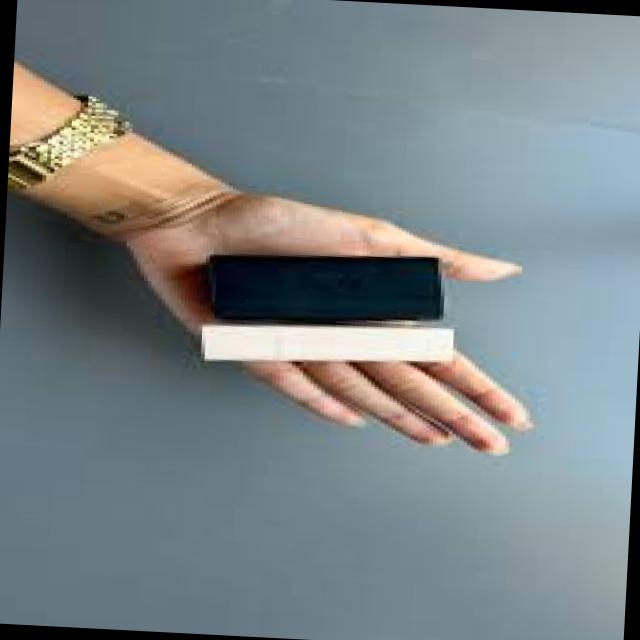power_bank: (194, 242, 448, 331), (195, 311, 454, 376)
